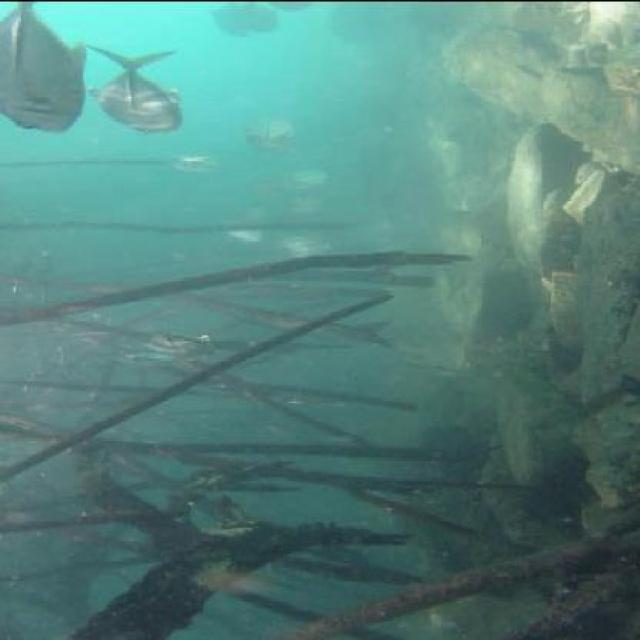Caranx_sexfasciatus_juvenile: (1, 0, 86, 132), (92, 42, 191, 133), (198, 1, 280, 36), (147, 328, 225, 362), (234, 112, 306, 148), (224, 205, 271, 249), (282, 228, 340, 257), (283, 192, 343, 219), (161, 151, 227, 174), (283, 168, 335, 192), (244, 175, 298, 197)
